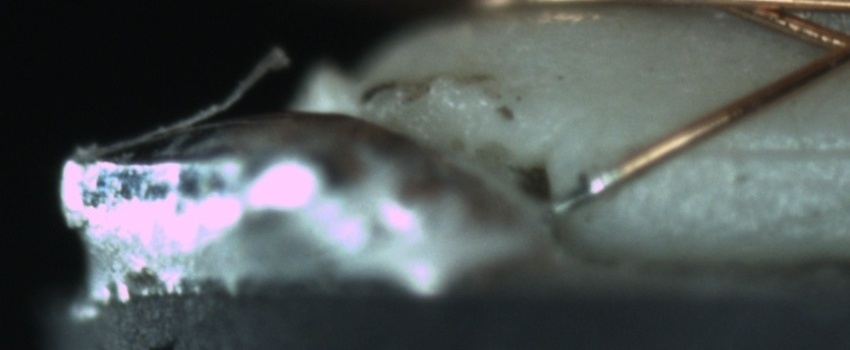CL: (799, 15, 850, 78)
DL: (680, 119, 849, 185)
TB: (579, 166, 613, 204)
TS: (551, 165, 624, 217)
TTCW: (546, 147, 641, 222)
